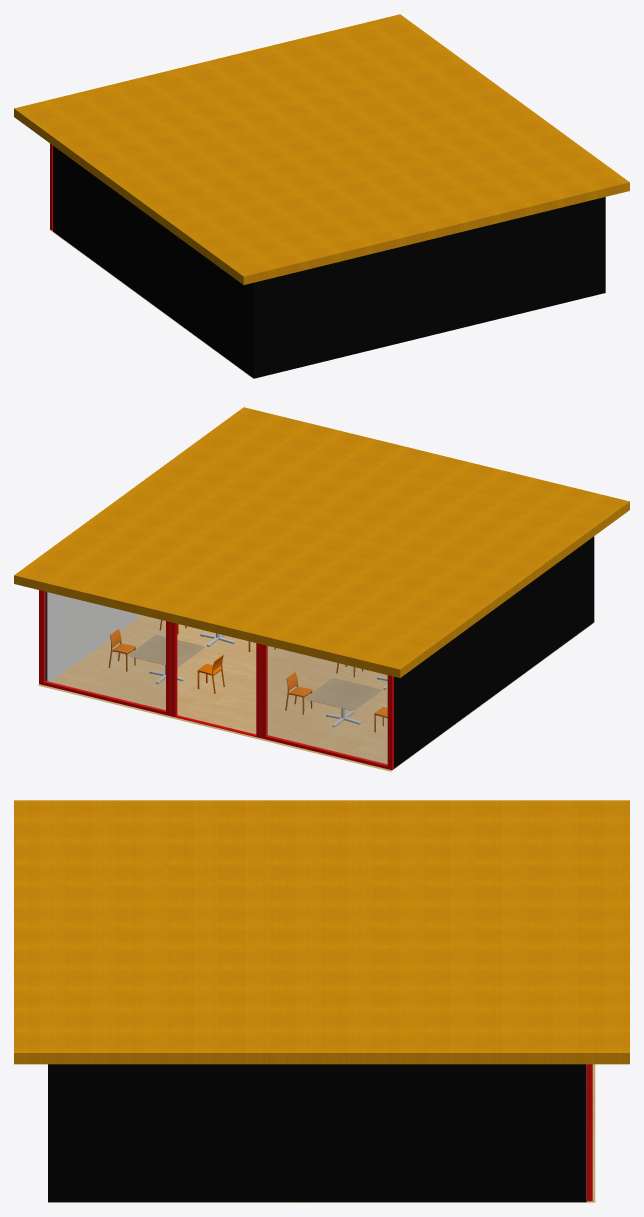
Rendered from 1KLC.gltf.
3 renders of one model, top to bottom at view 1: azimuth 30°, elevation 25°; view 2: azimuth 150°, elevation 25°; view 3: azimuth 270°, elevation 25°, orthographic. The views are drawn at different scales.
Visible parts, largest first — view 1: node_Ceiling_13012, node_Wall 5 (2)_13114, node_Wall 5 (1)_13038; view 2: node_Ceiling_13012, node_Windows_12946, node_Plane_13016, node_Wall 5 (1)_13038, node_Wall 5_12958, node_Table_13124, node_Table_12916; view 3: node_Ceiling_13012, node_Wall 5_12958, node_Plane_13016, node_Wall 5 (2)_13114, node_Windows_12946.
Boxes of the visible parts, <box> form: node_Ceiling_13012: <box>14,14,629,284</box>; node_Wall 5 (2)_13114: <box>251,197,605,378</box>; node_Wall 5 (1)_13038: <box>53,146,251,376</box>; node_Ceiling_13012: <box>14,407,629,677</box>; node_Windows_12946: <box>39,590,393,769</box>; node_Plane_13016: <box>38,615,594,771</box>; node_Wall 5 (1)_13038: <box>394,538,591,768</box>; node_Wall 5_12958: <box>45,592,141,681</box>; node_Table_13124: <box>305,678,381,727</box>; node_Table_12916: <box>128,635,204,684</box>; node_Ceiling_13012: <box>14,800,629,1064</box>; node_Wall 5_12958: <box>54,1064,586,1202</box>; node_Plane_13016: <box>49,1064,595,1202</box>; node_Wall 5 (2)_13114: <box>48,1064,53,1202</box>; node_Windows_12946: <box>587,1064,592,1201</box>.
Bounding box in the file's own units: 10.94 × 3.17 × 11.27.
Materials: 22 (13 with a texture image).
